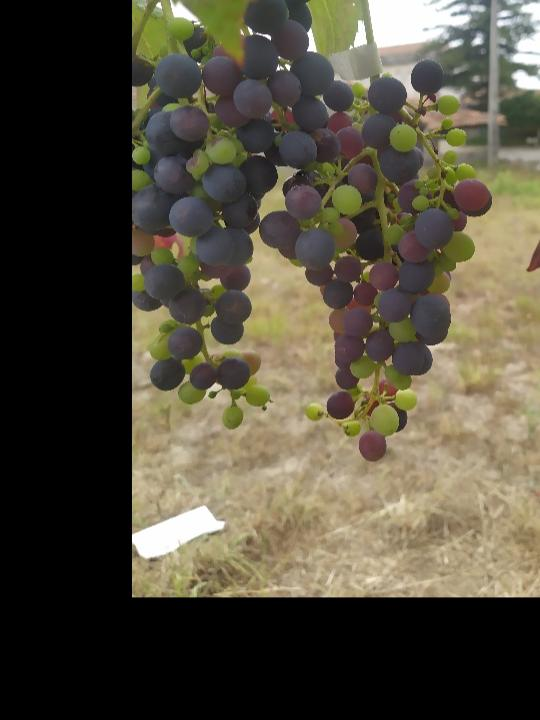grape: (256, 60, 496, 465), (132, 0, 351, 429)
